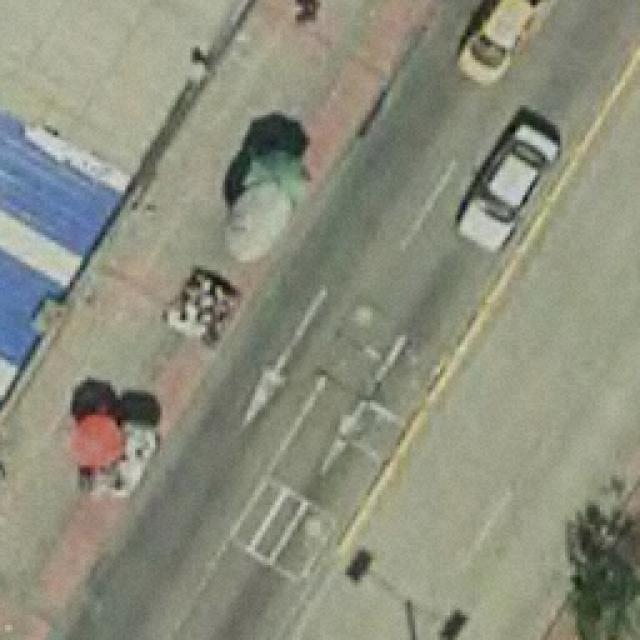vendedor_ambulante: (240, 148, 314, 218), (68, 409, 133, 473)
